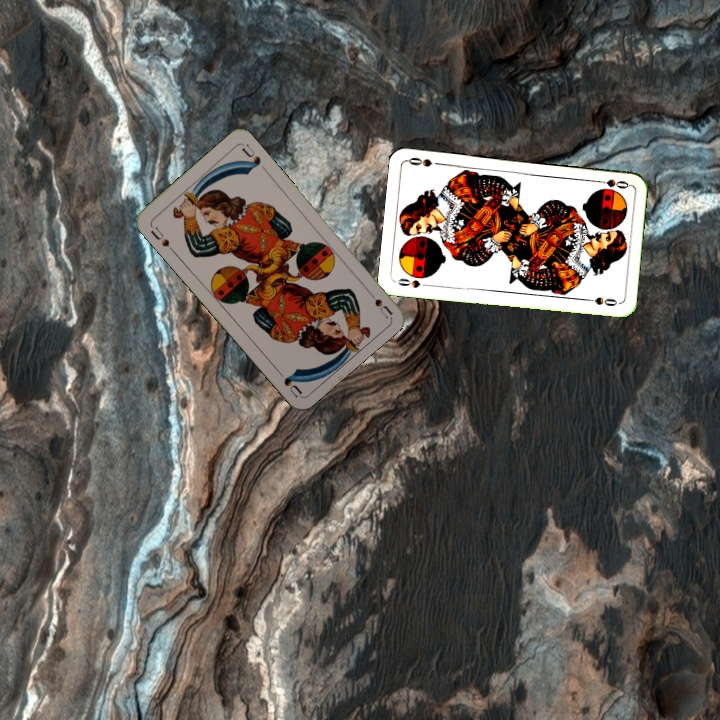SO: (591, 175, 632, 191), (392, 274, 433, 290)
SU: (362, 284, 394, 320), (146, 223, 177, 255)
